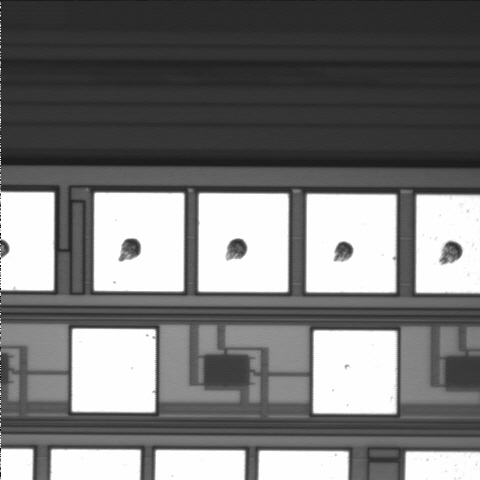pad: (198, 193, 289, 292), (306, 194, 396, 293), (94, 193, 184, 291), (313, 330, 397, 414), (72, 329, 156, 412)
